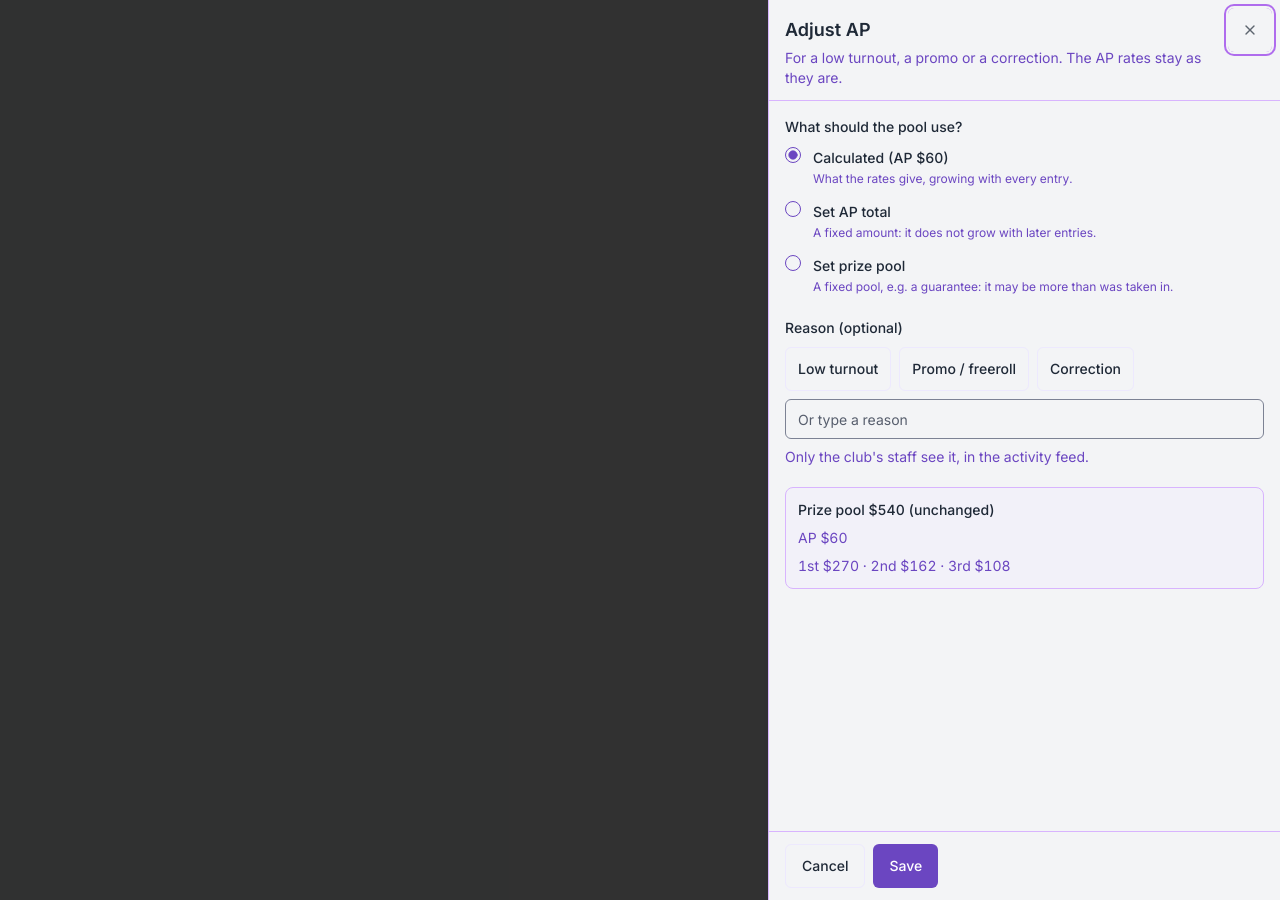
ApAdjustDialog › refuses an AP total over what was taken in before sending it
Click the radio button named "Set AP total" next to "Set AP total" at (793, 209), box x1=785 y1=201 x2=801 y2=217
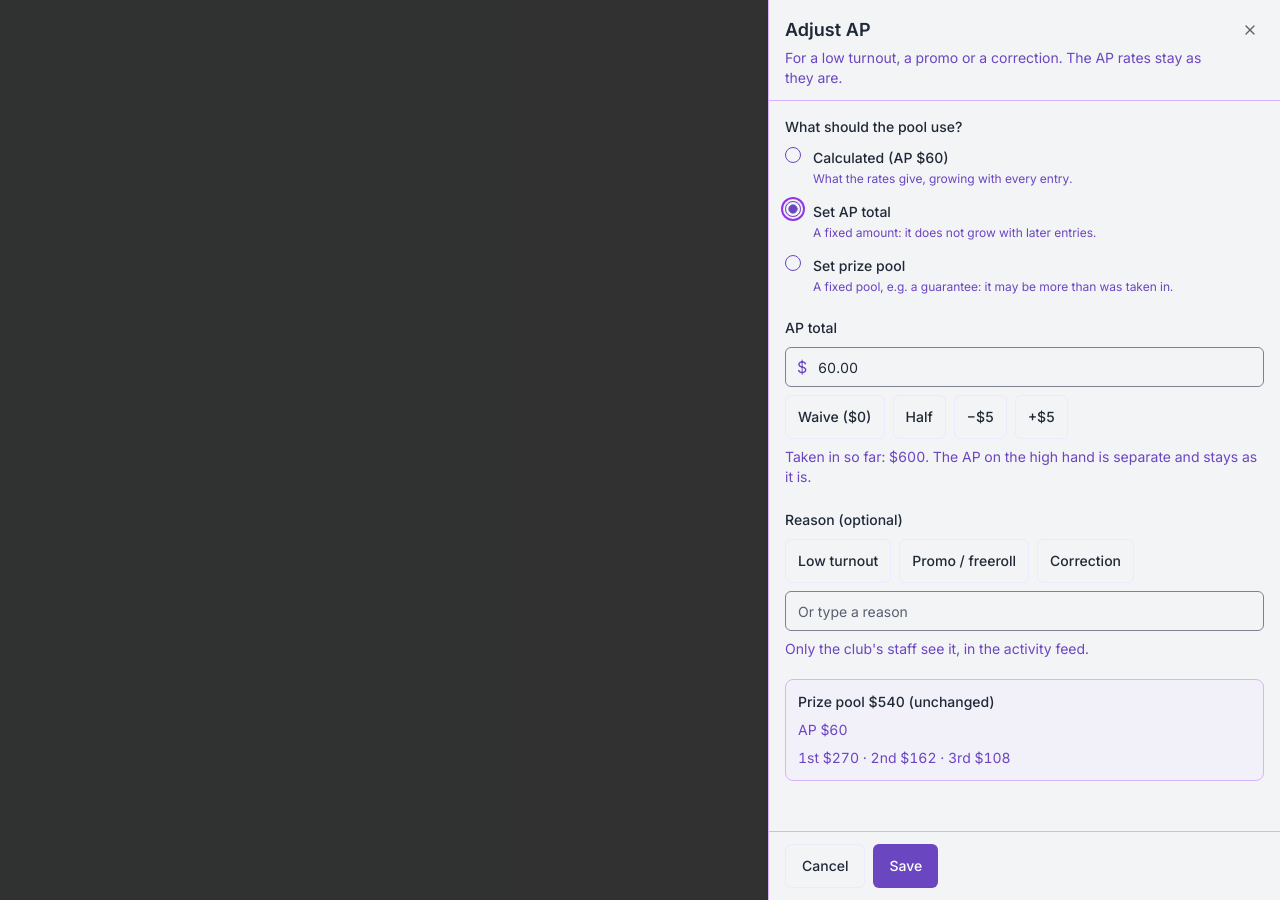
Replace the text in the field with test id "adjust-amount" with "700" at (1024, 367), box x1=785 y1=347 x2=1264 y2=387
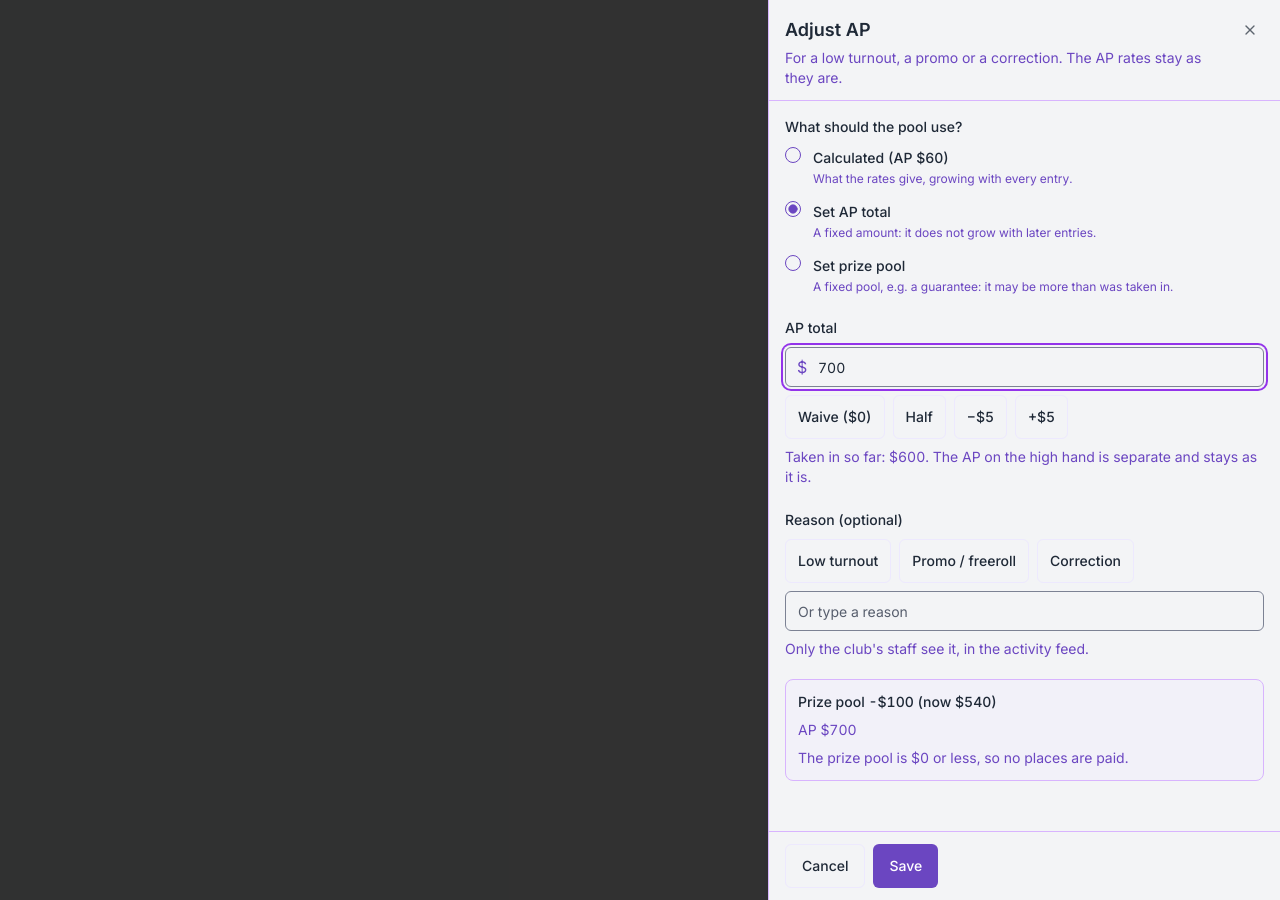
Click the button "Save" at (906, 866), box x1=874 y1=844 x2=938 y2=888
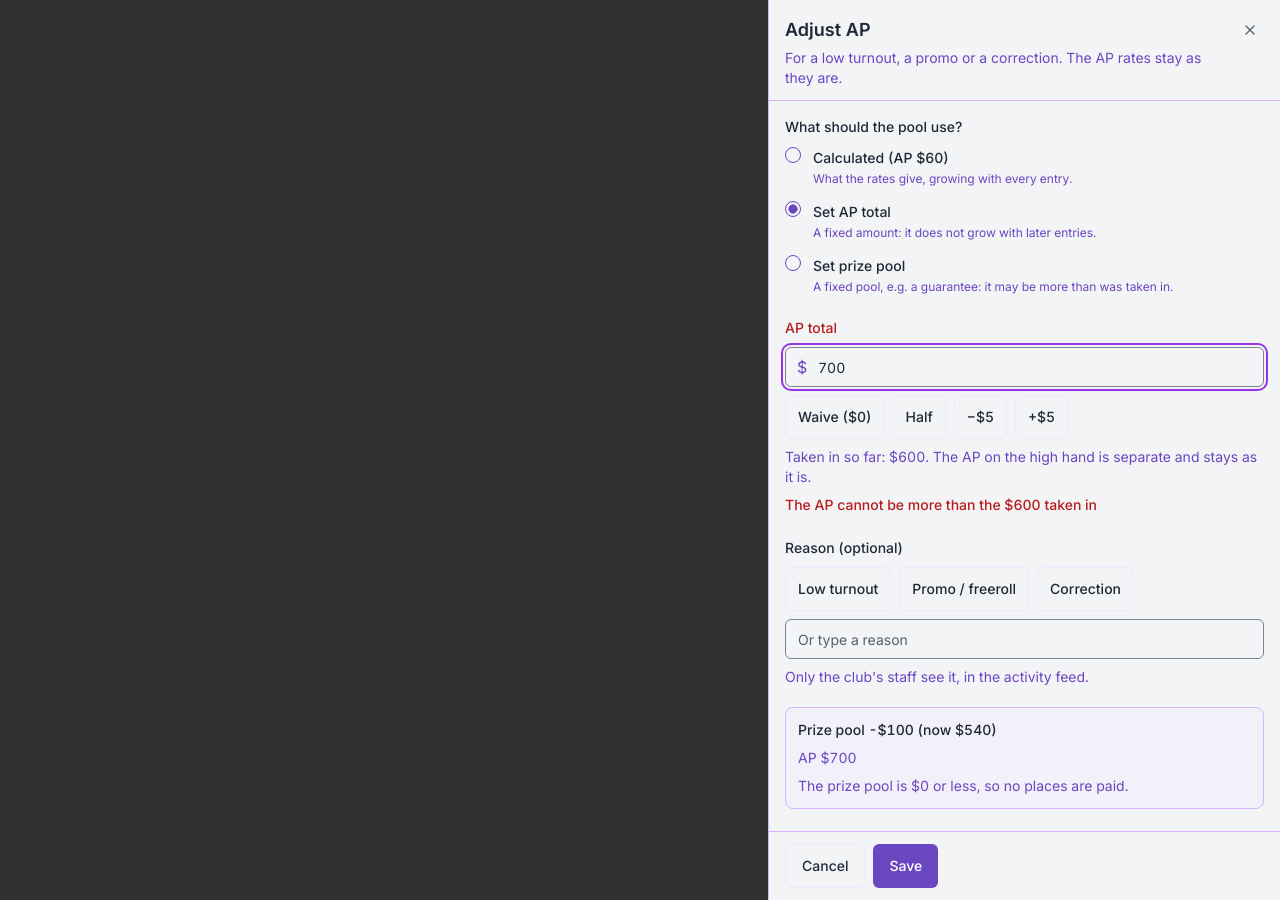
Expected: the text "The AP cannot be more than the $600 taken in" is shown, x1=785 y1=496 x2=1097 y2=513
